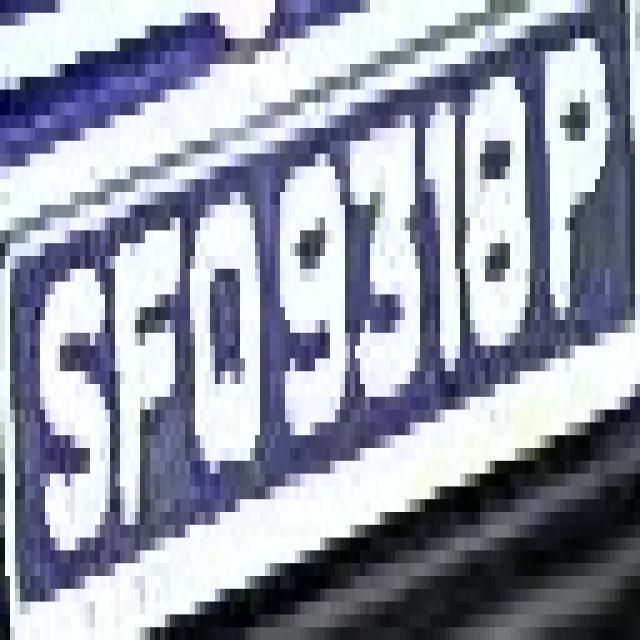1: (420, 102, 475, 448)
3: (340, 77, 430, 422)
8: (450, 52, 530, 358)
9: (255, 102, 350, 474)
F: (110, 218, 195, 538)
P: (535, 13, 630, 358)
Q: (170, 179, 280, 538)
S: (25, 256, 115, 576)
